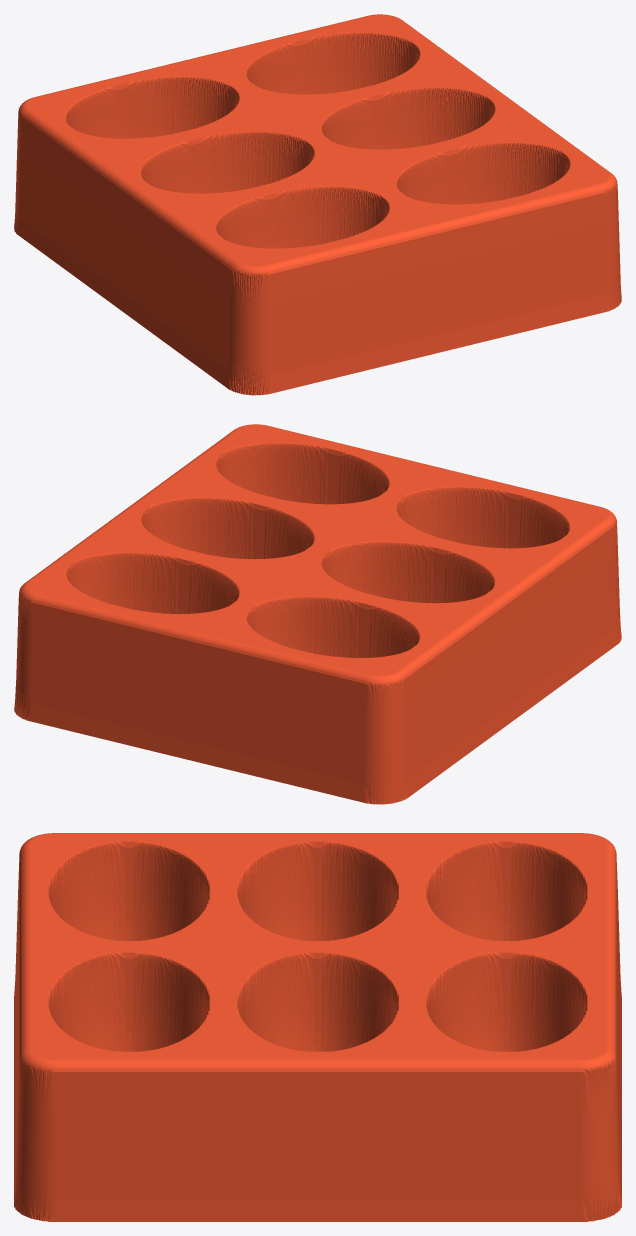
The model's file is mold.glb.
The picture shows the model from 3 angles, top to bottom: view 1: azimuth 30°, elevation 25°; view 2: azimuth 150°, elevation 25°; view 3: azimuth 270°, elevation 25°; orthographic projection. The views are drawn at different scales.
Parts seen in each view (by area): view 1: geometry_0; view 2: geometry_0; view 3: geometry_0.
Part boxes in pixels (<box>): geometry_0: <box>14,14,621,395</box>; geometry_0: <box>14,424,621,804</box>; geometry_0: <box>14,833,621,1221</box>.
Size of the model in its own units: 0.1246 by 0.0377 by 0.1338.
